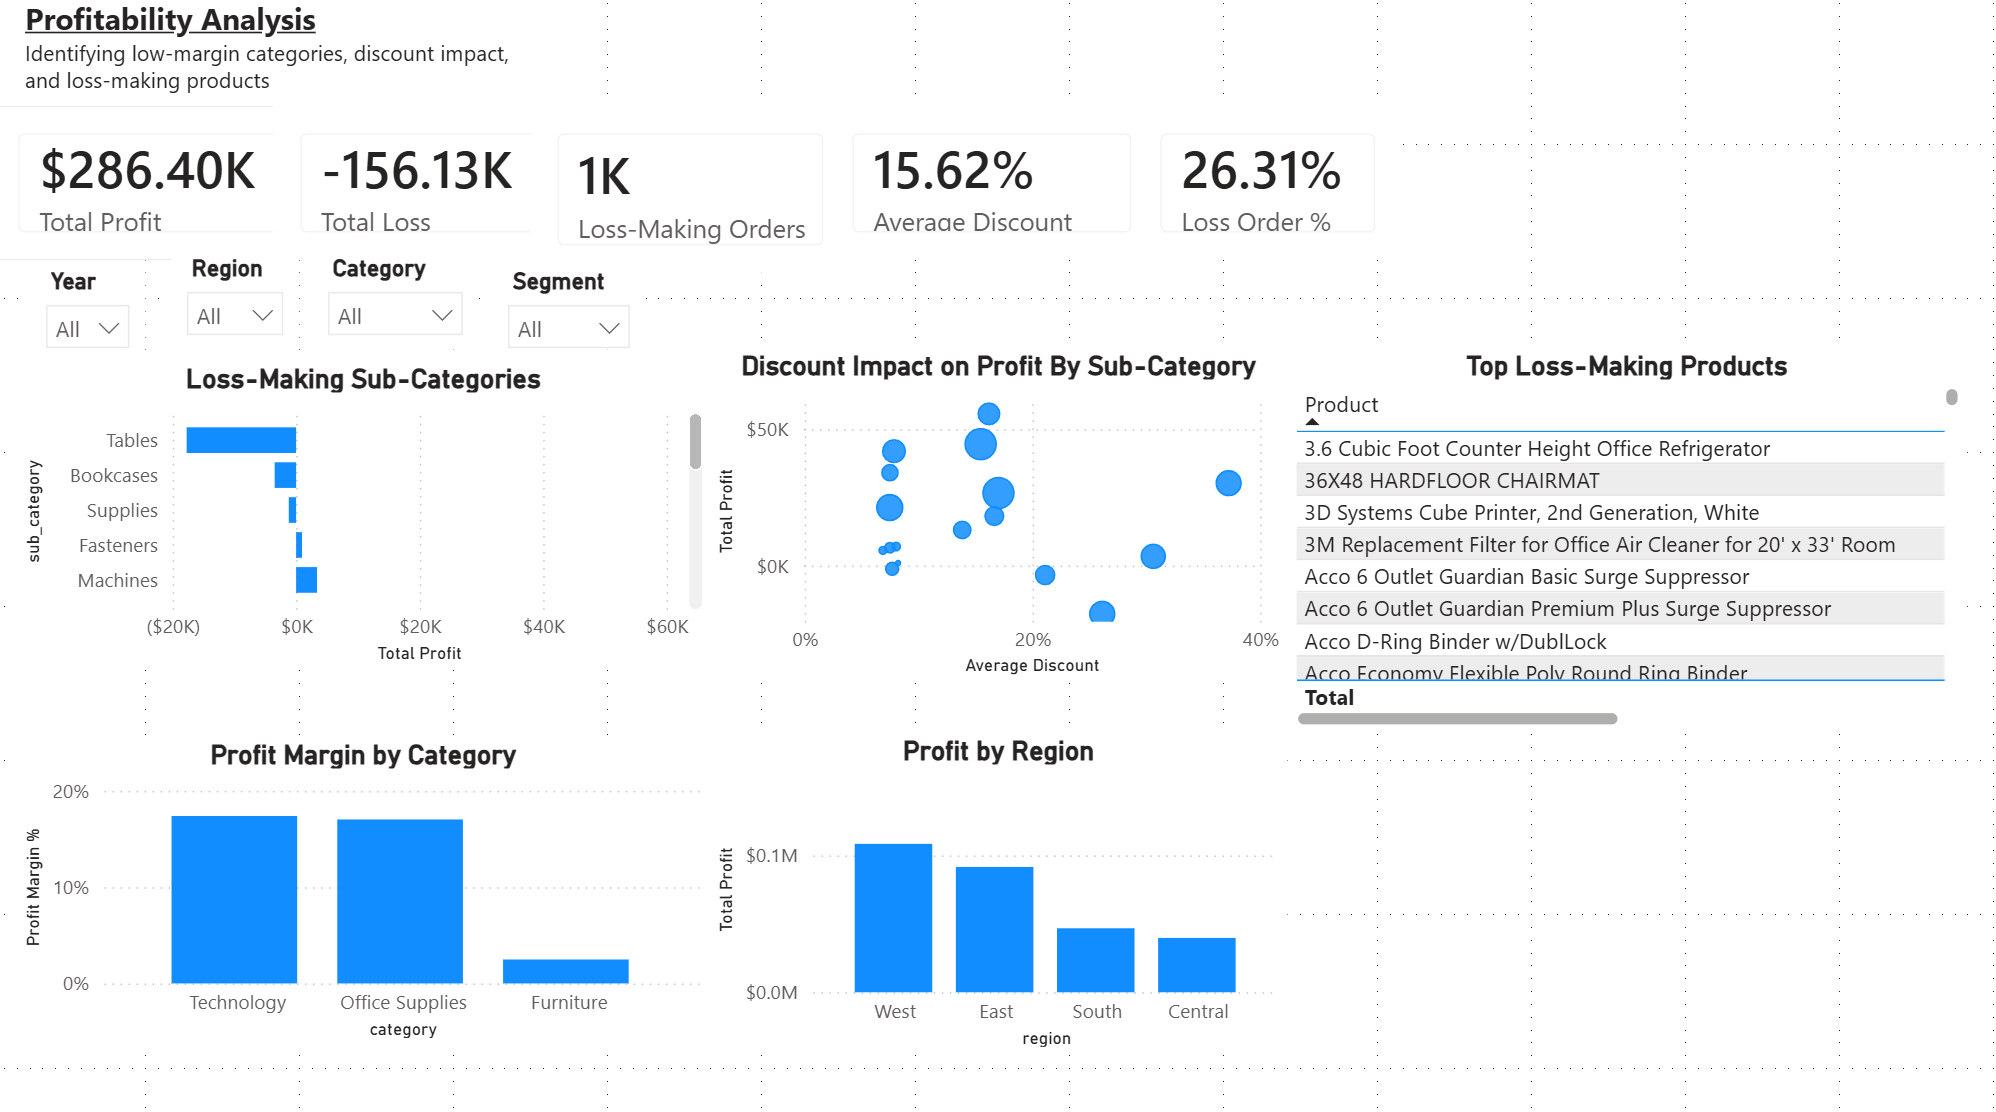

Layout of this report page (visuals, bound fields, positions):
{"tool":"powerbi","page":{"name":"Profitability Analysis","canvas":[1280,720],"ordinal":1},"visuals":[{"type":"cardVisual","fields":{"Data":["superstore_cleaned.Total Profit"]},"box":[0,72,216,96],"z":0},{"type":"cardVisual","fields":{"Data":["superstore_cleaned.Total Loss"]},"box":[176,72,184,96],"z":1000},{"type":"cardVisual","fields":{"Data":["superstore_cleaned.Loss-Making Orders"]},"box":[336,72,200,104],"z":2000},{"type":"cardVisual","fields":{"Data":["superstore_cleaned.Average Discount"]},"box":[520,72,208,96],"z":3000},{"type":"cardVisual","fields":{"Data":["superstore_cleaned.Loss Order %"]},"box":[712,72,168,96],"z":4000},{"type":"clusteredBarChart","title":"Loss-Making Sub-Categories","fields":{"Y":["superstore_cleaned.Total Profit"],"Category":["superstore_cleaned.sub_category"]},"box":[16,232,432,192],"z":5000},{"type":"clusteredColumnChart","title":"Profit Margin by Category","fields":{"Category":["superstore_cleaned.category"],"Y":["superstore_cleaned.Profit Margin %"]},"box":[16,466,432,192],"z":6000},{"type":"scatterChart","title":"Discount Impact on Profit By Sub-Category","fields":{"X":["superstore_cleaned.Average Discount"],"Y":["superstore_cleaned.Total Profit"],"Size":["superstore_cleaned.Total Sales"],"Category":["superstore_cleaned.sub_category"]},"box":[448,224,360,208],"z":7000},{"type":"tableEx","title":"Top Loss-Making Products","fields":{"Values":["superstore_cleaned.product_name","superstore_cleaned.category","superstore_cleaned.sub_category","Sum(superstore_cleaned.sales)","Sum(superstore_cleaned.profit)","Sum(superstore_cleaned.discount)"]},"box":[808,224,424,240],"z":8000},{"type":"clusteredColumnChart","title":"Profit by Region","fields":{"Category":["superstore_cleaned.region"],"Y":["superstore_cleaned.Total Profit"]},"box":[448,464,360,200],"z":9000},{"type":"slicer","fields":{"Values":["superstore_cleaned.order_year"]},"box":[24,168,72,56],"z":10000},{"type":"slicer","fields":{"Values":["superstore_cleaned.region"]},"box":[112,160,80,64],"z":11000},{"type":"slicer","fields":{"Values":["superstore_cleaned.category"]},"box":[200,160,104,64],"z":12000},{"type":"slicer","fields":{"Values":["superstore_cleaned.segment"]},"box":[312,168,96,56],"z":13000},{"type":"textbox","box":[16,0,320,72],"z":14000}]}

Visuals, with their boxes in screenshot pixels (x1, y1, x2, y2), scaled from the page's 1280x720 canvas onto the 1996x1112 screenshot:
cardVisual - superstore_cleaned.Total Profit: bbox=(0, 111, 337, 259)
cardVisual - superstore_cleaned.Total Loss: bbox=(274, 111, 561, 259)
cardVisual - superstore_cleaned.Loss-Making Orders: bbox=(524, 111, 836, 272)
cardVisual - superstore_cleaned.Average Discount: bbox=(811, 111, 1135, 259)
cardVisual - superstore_cleaned.Loss Order %: bbox=(1110, 111, 1372, 259)
"Loss-Making Sub-Categories" clusteredBarChart: bbox=(25, 358, 699, 655)
"Profit Margin by Category" clusteredColumnChart: bbox=(25, 720, 699, 1016)
"Discount Impact on Profit By Sub-Category" scatterChart: bbox=(699, 346, 1260, 667)
"Top Loss-Making Products" tableEx: bbox=(1260, 346, 1921, 717)
"Profit by Region" clusteredColumnChart: bbox=(699, 717, 1260, 1026)
slicer - superstore_cleaned.order_year: bbox=(37, 259, 150, 346)
slicer - superstore_cleaned.region: bbox=(175, 247, 299, 346)
slicer - superstore_cleaned.category: bbox=(312, 247, 474, 346)
slicer - superstore_cleaned.segment: bbox=(487, 259, 636, 346)
textbox: bbox=(25, 0, 524, 111)
